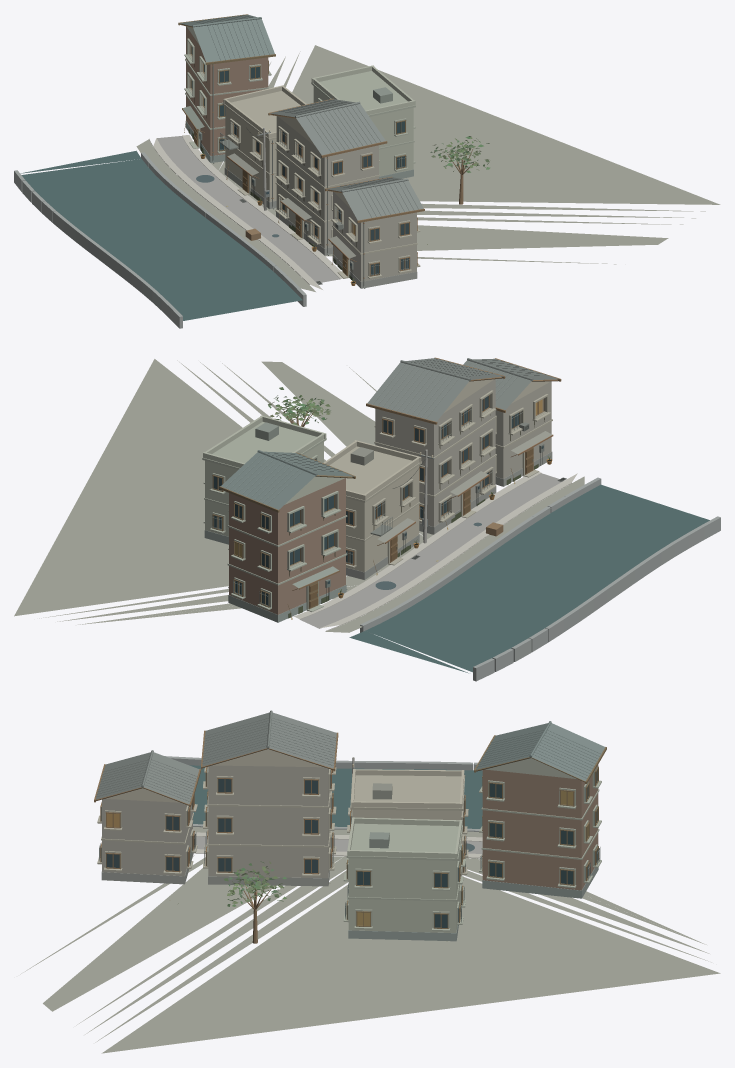
File: street_8_3.glb
The picture shows the model from 3 angles, top to bottom: view 1: azimuth 30°, elevation 25°; view 2: azimuth 150°, elevation 25°; view 3: azimuth 270°, elevation 25°; orthographic projection. The views are drawn at different scales.
Parts seen in each view (by area): view 1: ground.007, water.006, trim.047, roof_tile.032, concrete.039, plaster.047, graybrick.046, road.048, brick.020, wood.047, paving.038, glass.047 (+3 smaller); view 2: ground.007, water.006, trim.047, roof_tile.032, graybrick.046, concrete.039, brick.020, plaster.047, road.048, wood.047, paving.038, glass.047 (+3 smaller); view 3: ground.007, concrete.039, trim.047, plaster.047, roof_tile.032, brick.020, wood.047, graybrick.046, glass.047, water.006, leaf.049, roof_metal.047 (+1 smaller).
Part boxes in pixels (left/top/right/bottom): ground.007: left=136, top=45, right=720, bottom=291; water.006: left=20, top=150, right=302, bottom=320; trim.047: left=184, top=38, right=420, bottom=278; roof_tile.032: left=180, top=14, right=423, bottom=220; concrete.039: left=263, top=116, right=416, bottom=281; plaster.047: left=186, top=26, right=415, bottom=209; graybrick.046: left=14, top=121, right=417, bottom=328; road.048: left=157, top=136, right=339, bottom=282; brick.020: left=186, top=26, right=268, bottom=155; wood.047: left=178, top=14, right=473, bottom=276; paving.038: left=149, top=135, right=342, bottom=289; glass.047: left=191, top=47, right=408, bottom=275; ground.007: left=14, top=359, right=584, bottom=632; water.006: left=349, top=484, right=709, bottom=673; trim.047: left=202, top=390, right=552, bottom=611; roof_tile.032: left=221, top=358, right=558, bottom=509; graybrick.046: left=204, top=452, right=720, bottom=681; concrete.039: left=375, top=379, right=551, bottom=543; brick.020: left=229, top=478, right=345, bottom=614; plaster.047: left=203, top=379, right=550, bottom=572; road.048: left=300, top=473, right=563, bottom=628; wood.047: left=212, top=357, right=561, bottom=616; paving.038: left=293, top=472, right=577, bottom=631; glass.047: left=213, top=396, right=543, bottom=606; ground.007: left=20, top=827, right=720, bottom=1053; concrete.039: left=102, top=757, right=354, bottom=878; trim.047: left=97, top=766, right=601, bottom=931; plaster.047: left=105, top=749, right=576, bottom=932; roof_tile.032: left=95, top=710, right=605, bottom=804; brick.020: left=482, top=765, right=598, bottom=890; wood.047: left=94, top=730, right=606, bottom=943; graybrick.046: left=101, top=756, right=598, bottom=941; glass.047: left=101, top=768, right=597, bottom=927; water.006: left=189, top=765, right=482, bottom=828; leaf.049: left=224, top=861, right=286, bottom=906; roof_metal.047: left=369, top=783, right=392, bottom=848.
Size of the model in its own units: 50.95 by 12.37 by 51.18.
